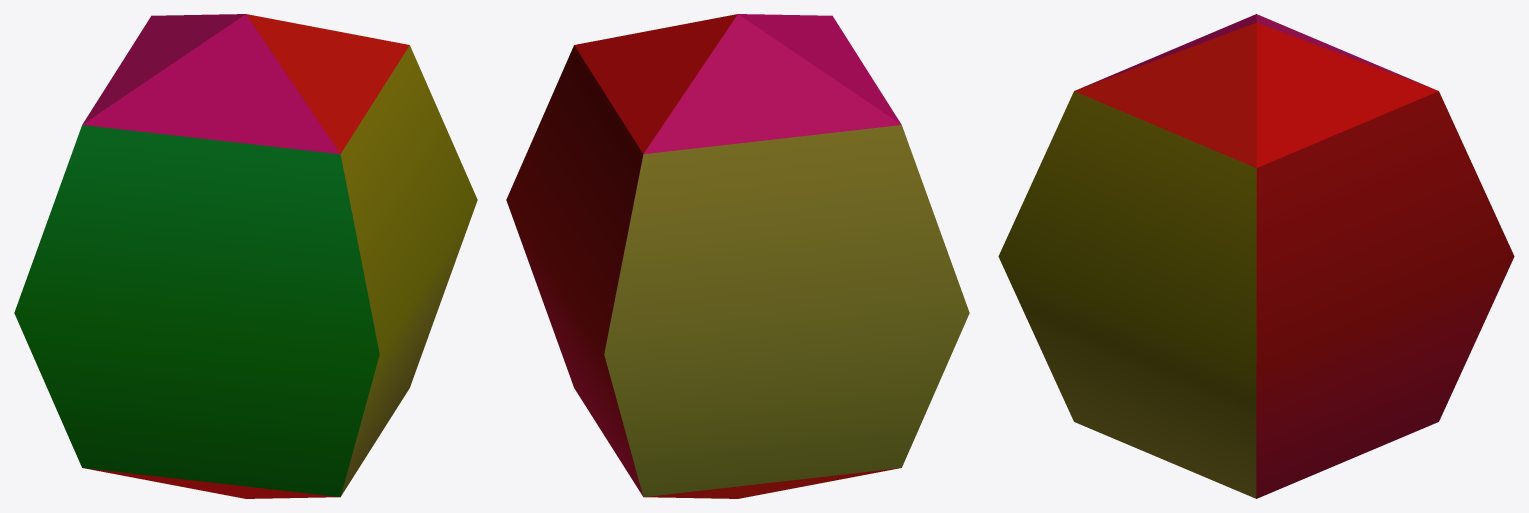
The model's file is boulder1.fbx.
3 renders of one model, left to right at view 1: azimuth 30°, elevation 25°; view 2: azimuth 150°, elevation 25°; view 3: azimuth 270°, elevation 25°, orthographic. The views are drawn at different scales.
Parts seen in each view (by area): view 1: hammermesh-4; view 2: hammermesh-4; view 3: hammermesh-4.
Boxes of the visible parts, x1,y1,x2,y2 form: hammermesh-4: (14, 14, 477, 498); hammermesh-4: (506, 14, 969, 498); hammermesh-4: (998, 14, 1514, 498).
Bounding box in the file's own units: 64 × 64 × 64.
